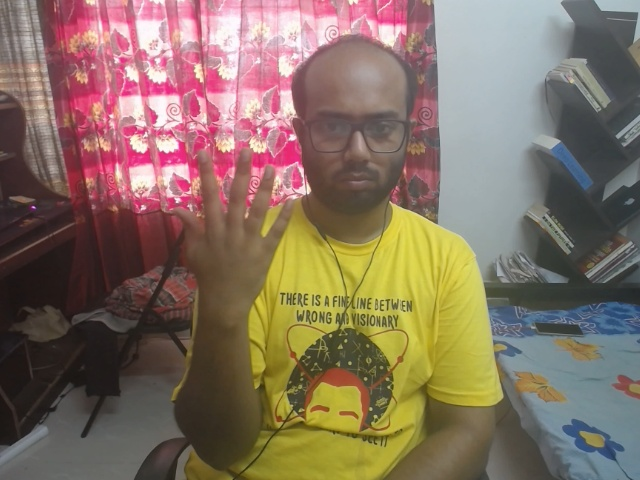five: (129, 142, 312, 317)
